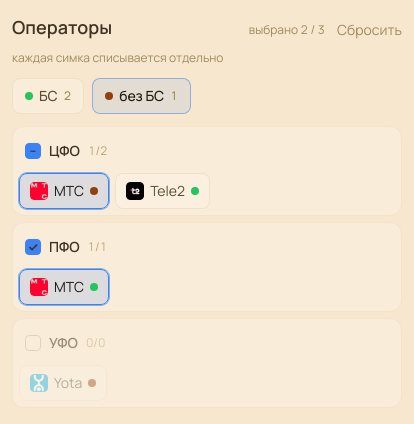
Scenario: OperatorPicker › «Сбросить» стоит в строке заголовка рядом со счётчиком, есть только при выборе и очищает его
The image size is (414, 424).
Step 1. Click the button "Сбросить" → (370, 30), box [337,12,402,48]
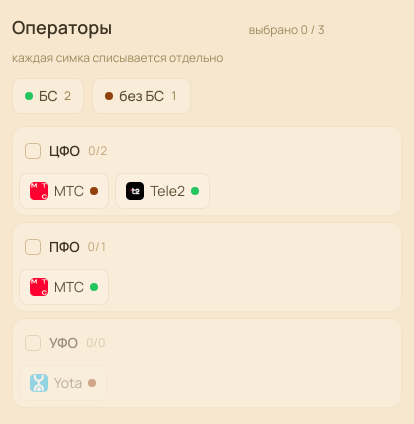
Now the button "Сбросить" is gone
